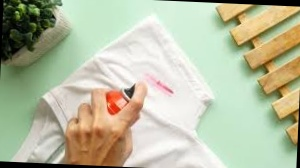lipstick: (148, 77, 181, 95)
